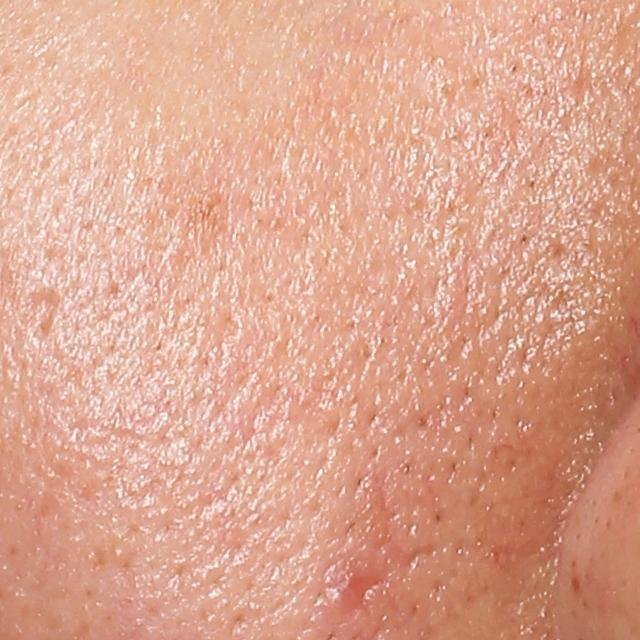atrophic_scar: (23, 284, 66, 339)
